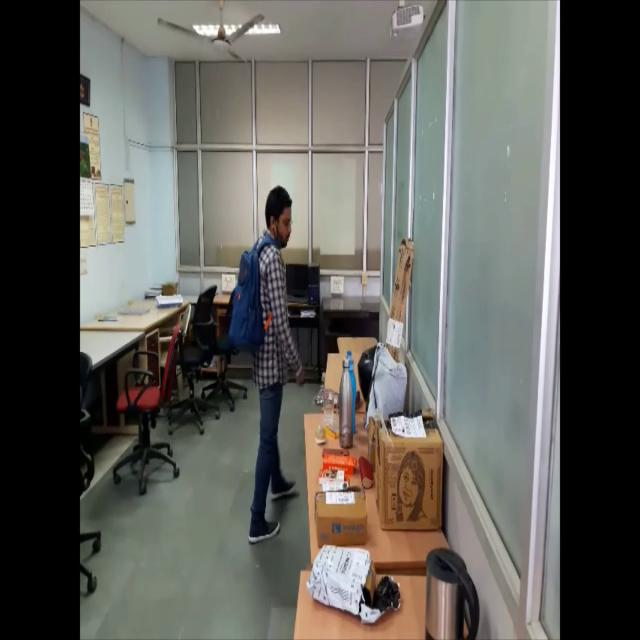normal: (221, 178, 303, 564)
